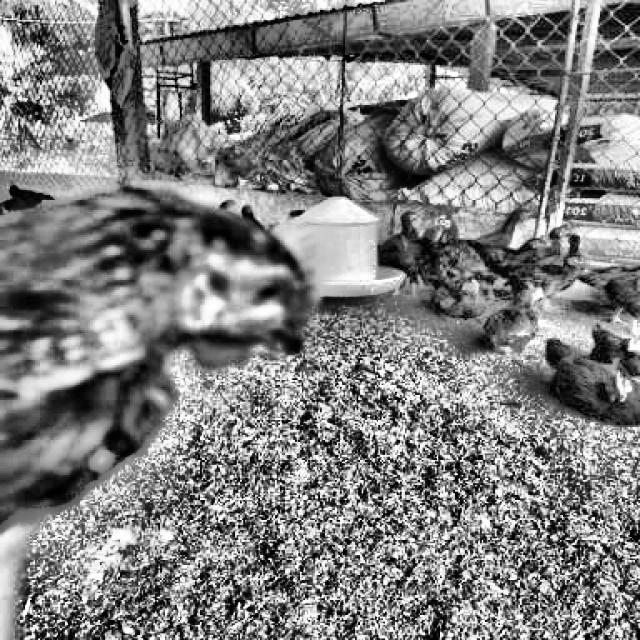Healthy: (245, 272, 298, 306)
